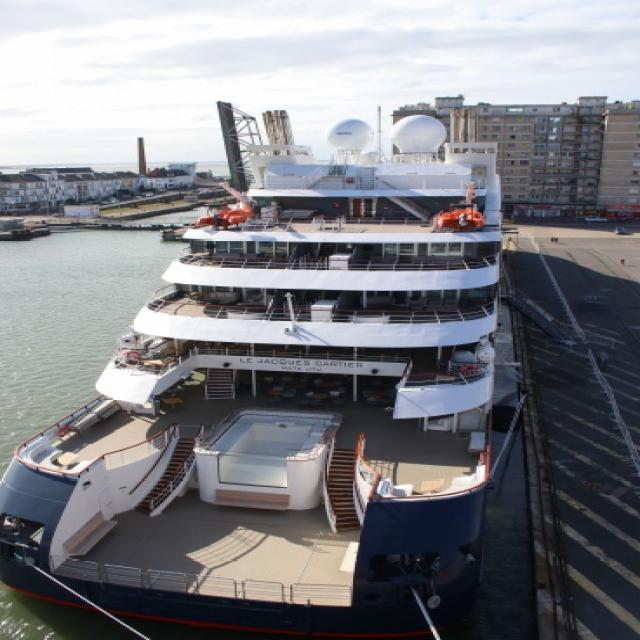cruises: (1, 105, 530, 640)
